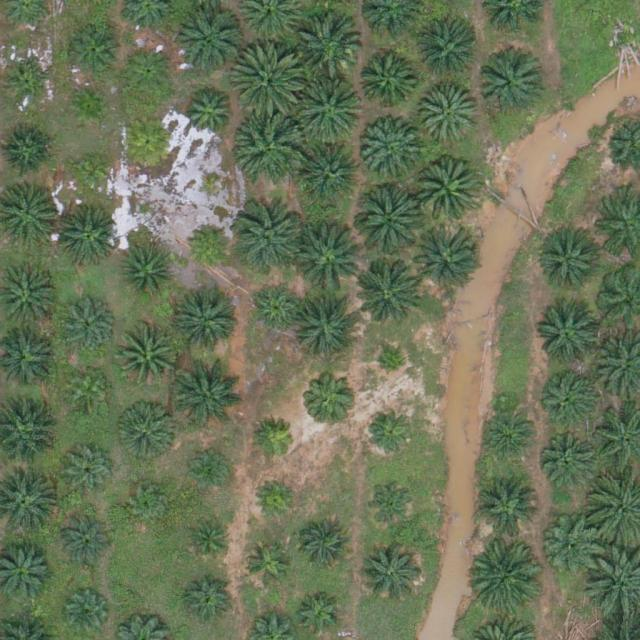Healthy: (352, 186, 423, 257), (350, 259, 421, 330), (472, 540, 542, 611), (412, 156, 482, 227), (292, 223, 362, 294), (295, 73, 365, 144), (234, 43, 304, 114), (235, 204, 305, 275), (293, 9, 363, 80), (174, 4, 244, 75), (176, 360, 246, 430), (411, 224, 481, 294), (237, 112, 307, 182), (296, 292, 366, 362), (54, 206, 117, 269), (477, 54, 540, 117), (419, 85, 482, 148), (355, 51, 418, 114), (360, 544, 422, 607), (116, 326, 178, 389), (117, 400, 179, 463), (177, 288, 239, 351), (542, 515, 605, 577), (538, 363, 600, 426), (538, 306, 600, 369), (542, 227, 604, 290), (477, 476, 539, 539), (360, 118, 422, 181), (540, 427, 602, 489), (418, 24, 480, 86), (302, 142, 364, 204), (366, 477, 421, 533), (182, 575, 237, 630), (250, 283, 305, 338), (121, 44, 176, 99), (59, 516, 114, 571), (63, 442, 118, 497), (120, 246, 175, 301), (364, 404, 419, 459), (303, 369, 358, 424), (65, 25, 120, 80), (299, 518, 354, 573), (62, 296, 116, 351), (481, 406, 535, 461), (181, 86, 235, 141)
Small: (64, 591, 111, 639), (66, 82, 113, 130), (186, 222, 233, 269), (7, 64, 54, 111), (253, 417, 300, 464), (66, 367, 113, 414), (187, 448, 234, 495), (244, 542, 291, 589), (127, 482, 174, 529), (253, 477, 300, 524), (186, 518, 233, 565), (68, 150, 115, 197), (376, 351, 407, 382)
Yellow: (121, 114, 176, 170)
